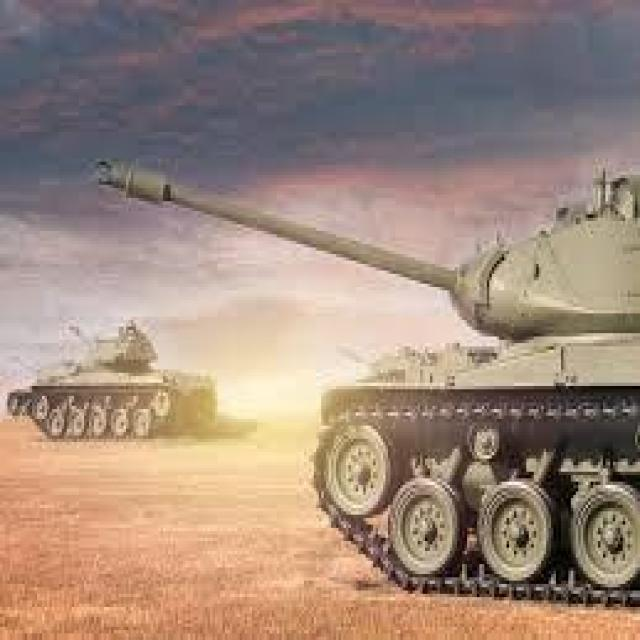Tanks: (98, 48, 577, 628), (11, 266, 236, 536)
